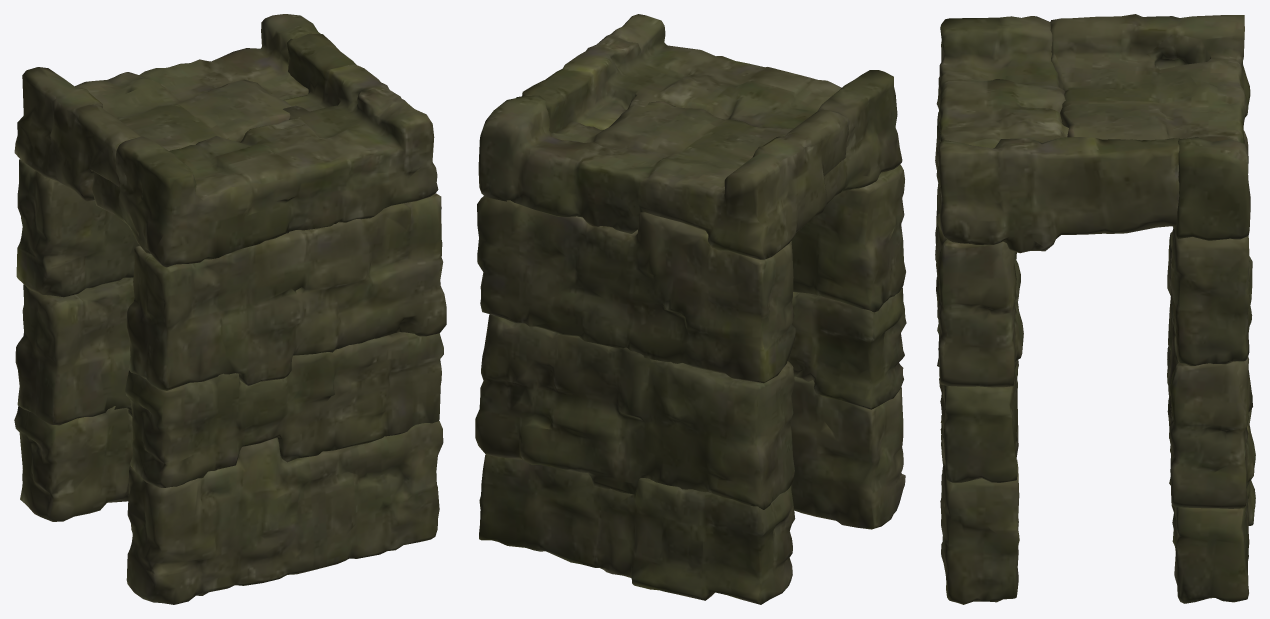
Rendered from Ruins_TallArch-transformed.glb.
3 renders of one model, left to right at view 1: azimuth 30°, elevation 25°; view 2: azimuth 150°, elevation 25°; view 3: azimuth 270°, elevation 25°, orthographic. The views are drawn at different scales.
Visible parts, largest first — view 1: Ruins_TallArch; view 2: Ruins_TallArch; view 3: Ruins_TallArch.
Boxes of the visible parts, x1,y1,x2,y2 form: Ruins_TallArch: (14, 14, 446, 604); Ruins_TallArch: (475, 14, 906, 604); Ruins_TallArch: (935, 14, 1255, 604).
Size of the model in its own units: 4.96 by 7.13 by 4.52.
2 materials, 2 textured.
